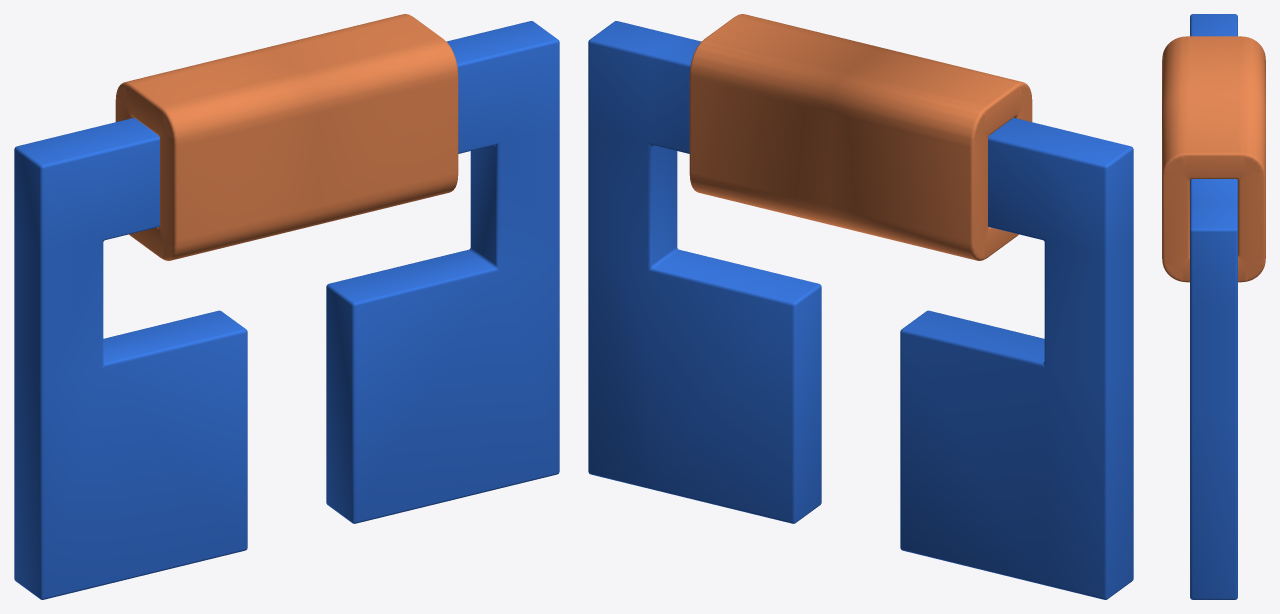
File: vertical_corrector.glb
The picture shows the model from 3 angles, left to right: view 1: azimuth 30°, elevation 25°; view 2: azimuth 150°, elevation 25°; view 3: azimuth 270°, elevation 25°; orthographic projection. The views are drawn at different scales.
Visible parts, largest first — view 1: VerticalCorrectorCore, VerticalCorrectorCoil; view 2: VerticalCorrectorCore, VerticalCorrectorCoil; view 3: VerticalCorrectorCore, VerticalCorrectorCoil.
Boxes of the visible parts, bbox=[...] form: VerticalCorrectorCore: bbox=[14, 21, 559, 599]; VerticalCorrectorCoil: bbox=[115, 14, 458, 260]; VerticalCorrectorCore: bbox=[588, 21, 1133, 599]; VerticalCorrectorCoil: bbox=[689, 14, 1032, 260]; VerticalCorrectorCore: bbox=[1190, 14, 1237, 599]; VerticalCorrectorCoil: bbox=[1162, 36, 1265, 282].
Bounding box in the file's own units: 1.85 × 1.59 × 0.3758.
